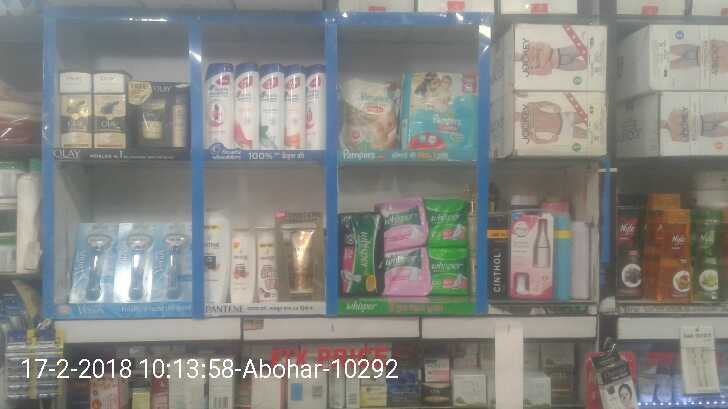venus: (75, 223, 117, 303), (117, 223, 155, 303), (155, 223, 190, 303)
